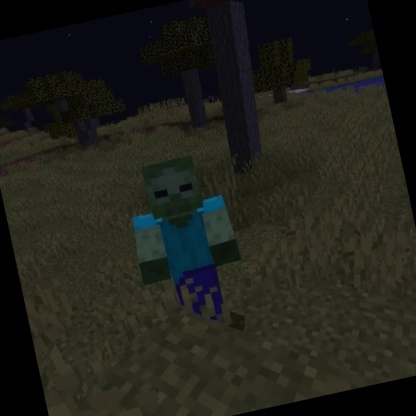zombie: (116, 145, 258, 341)
